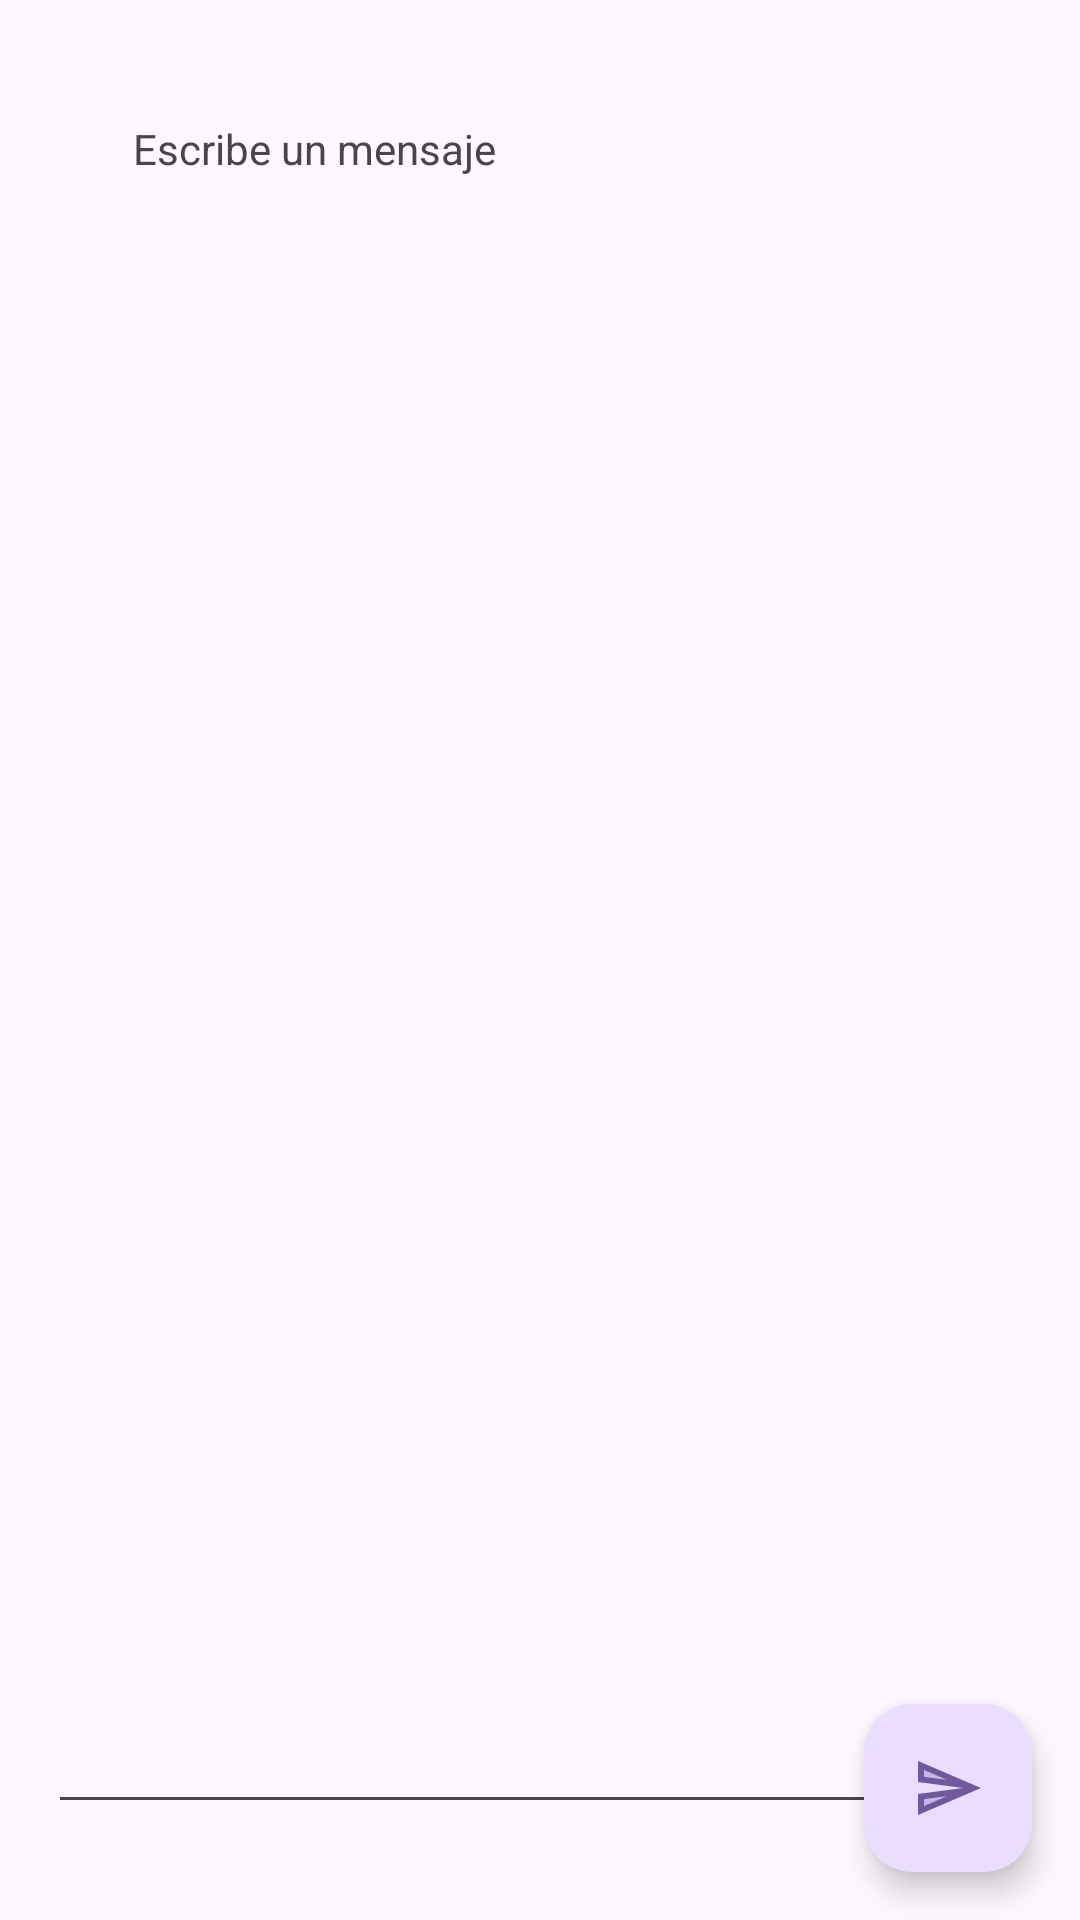

Icons on this 1080w x 1920h Android screen, each with the point to tap as (x,y):
send: (948,1788)
